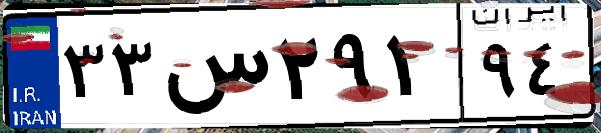1: (385, 28, 445, 110)
2: (270, 28, 330, 110)
3: (57, 26, 110, 100), (110, 28, 158, 98)
4: (525, 38, 570, 115)
9: (330, 28, 385, 110), (475, 38, 525, 113)
س: (158, 20, 270, 120)
